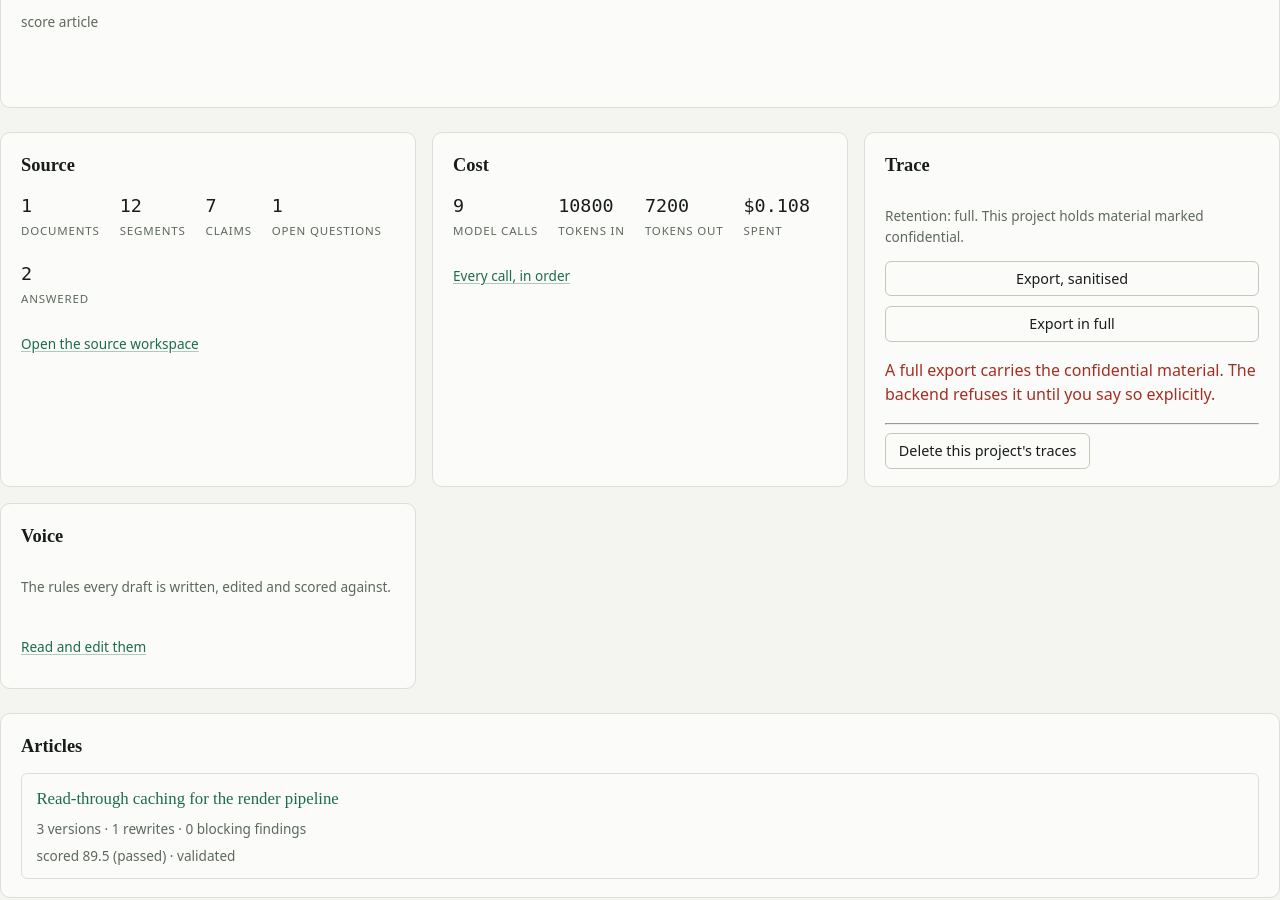
Test case: the trace panel › makes deleting a second, deliberate act, and says what stayed
(page scrolled)
Step 1. Click the button "Delete this project's traces" → (988, 451), box [885,433,1090,469]
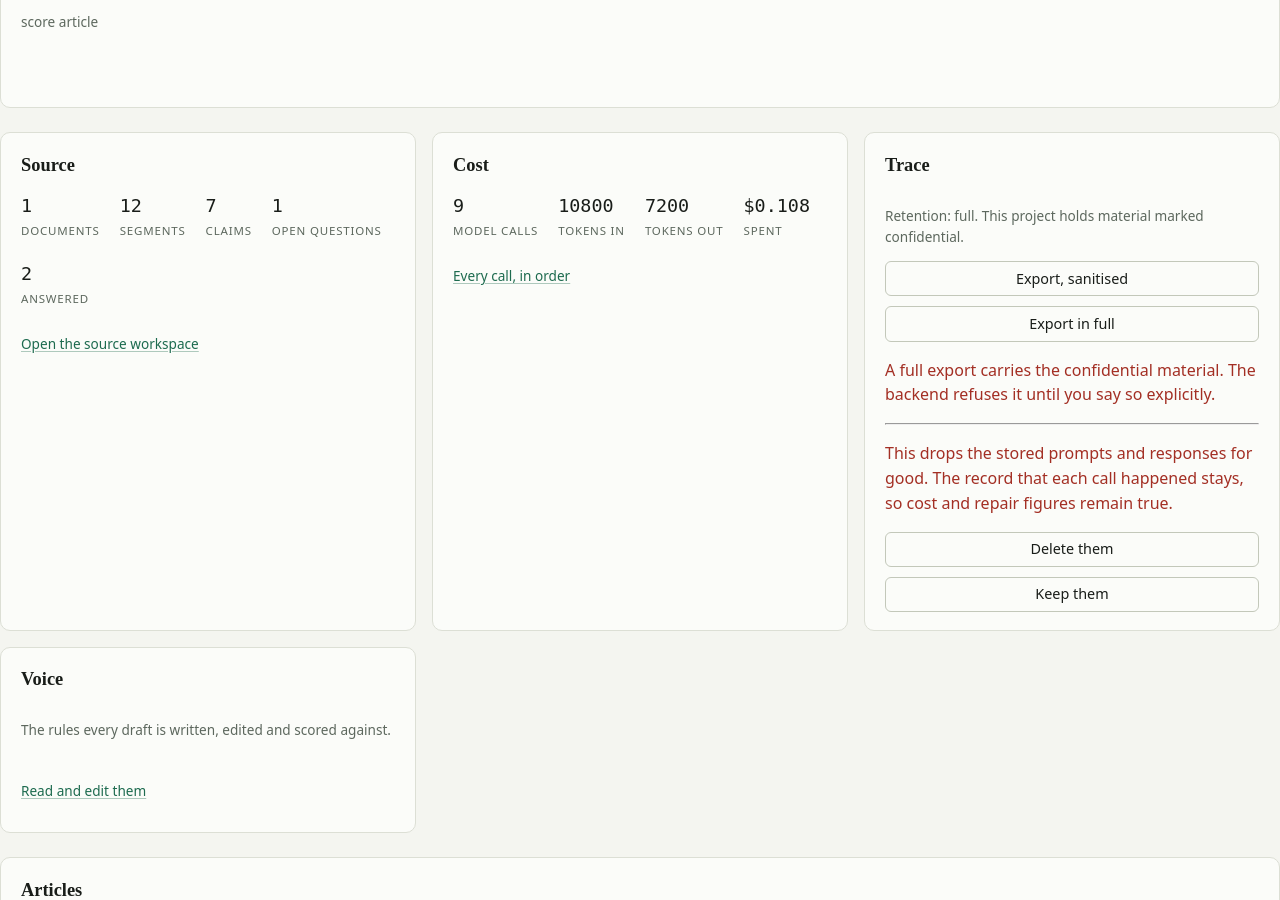
Expected: the element with test id "confirm-delete" shows "the record that each call happened stays", [885,442,1252,514]
Step 2. Click the button "Delete them" → (1072, 549), box [885,532,1259,567]
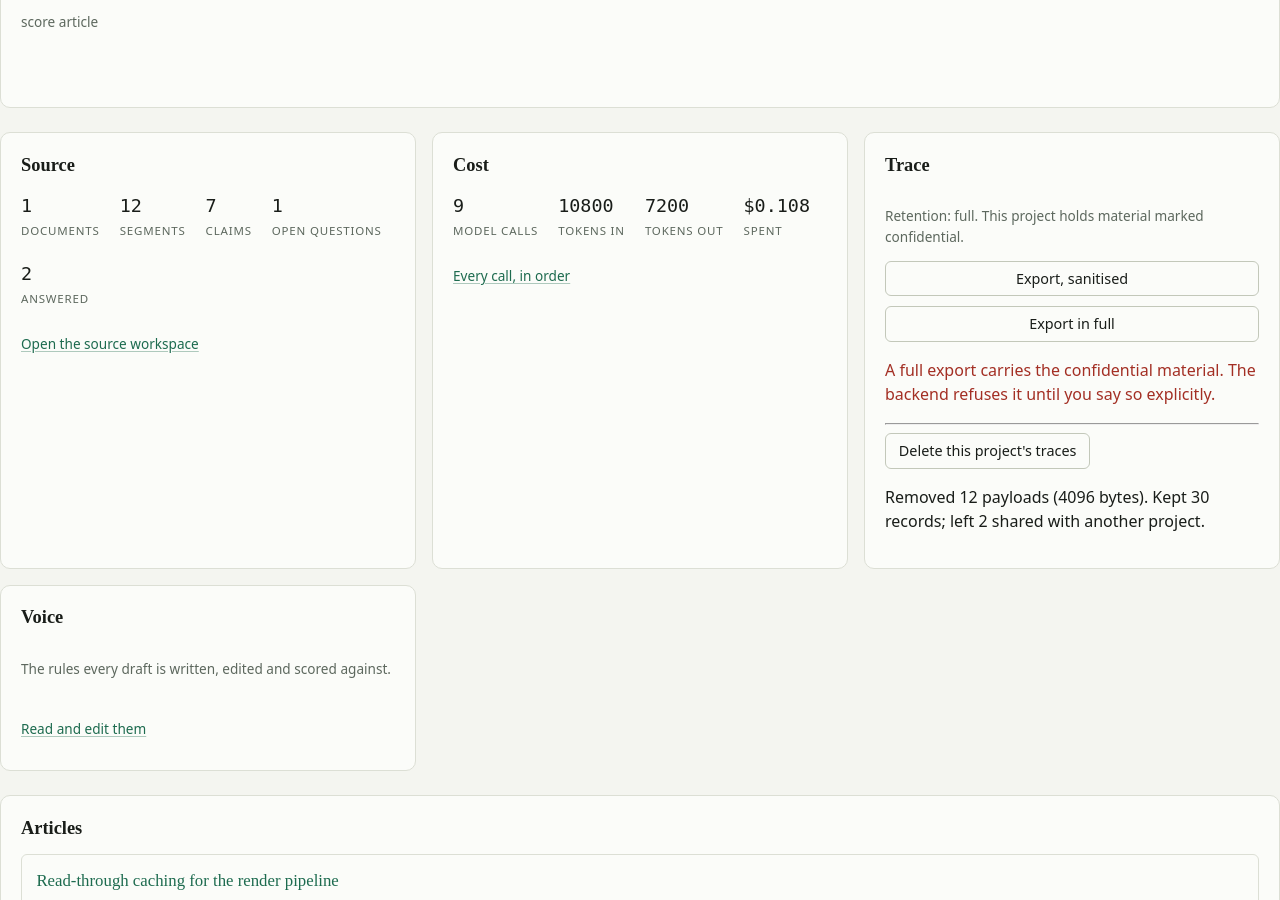
Expected: the message with test id "delete-result" shows "Kept 30 record", [885,485,1259,534]
